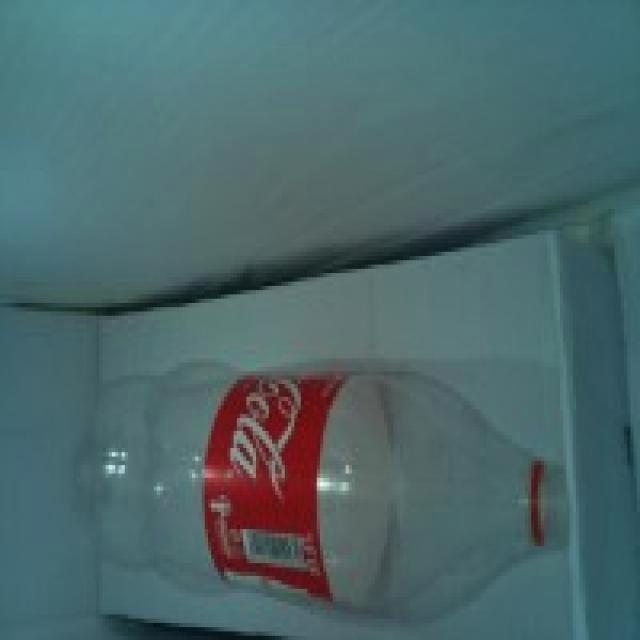bottle: (74, 361, 558, 624)
